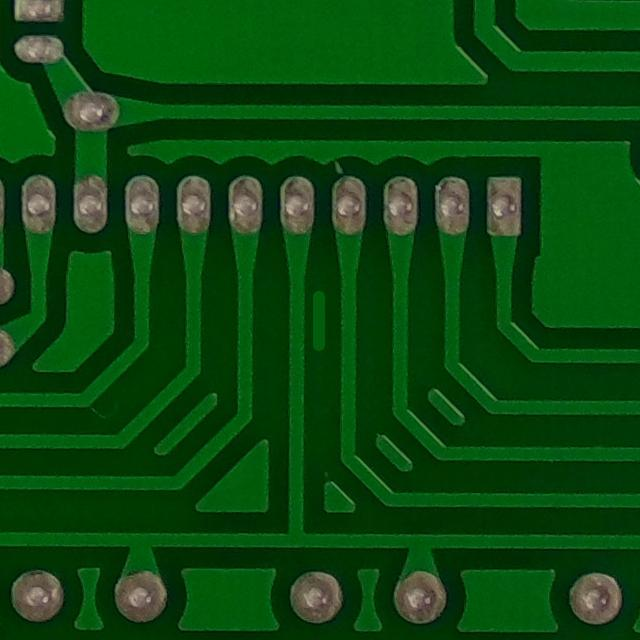spurious_copper: (295, 275, 346, 365)
